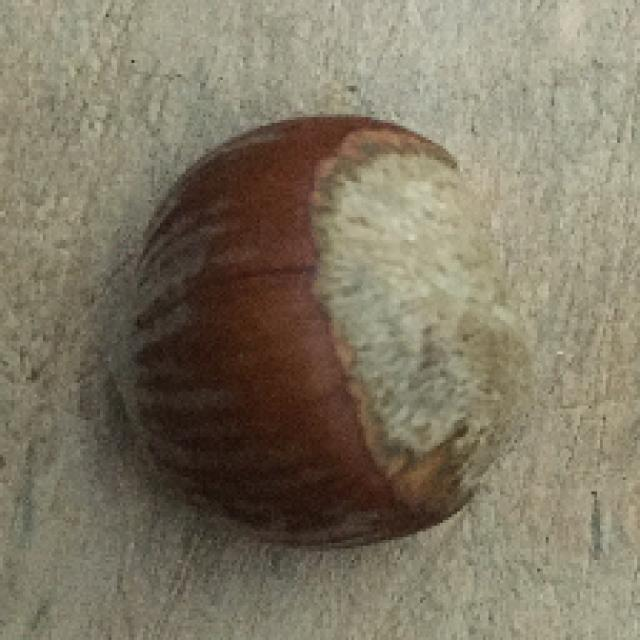qualityHazelnut: (96, 113, 520, 550)
